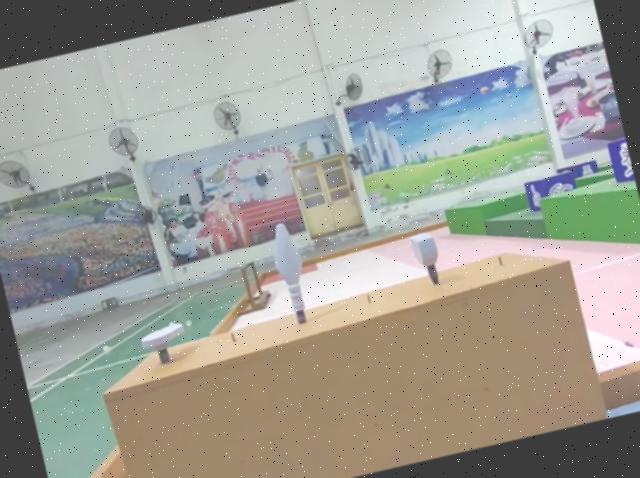Fist: (408, 230, 447, 286)
Hand: (138, 323, 189, 368)
Sph: (261, 216, 315, 328)
